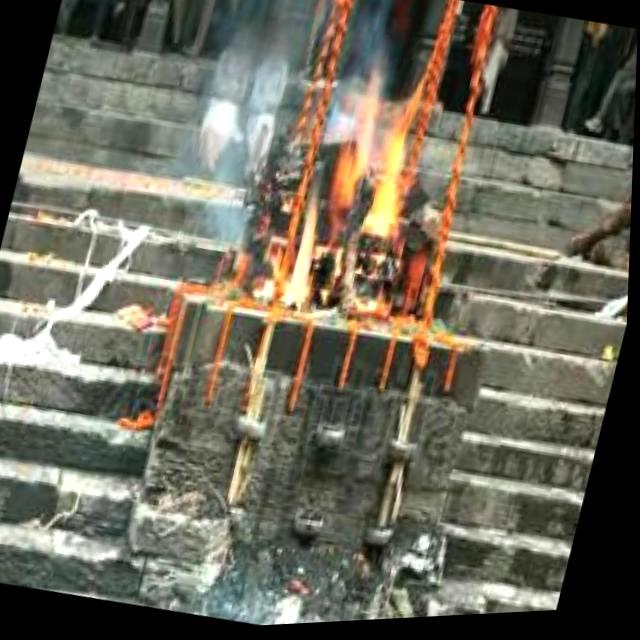fire: (262, 49, 434, 328)
